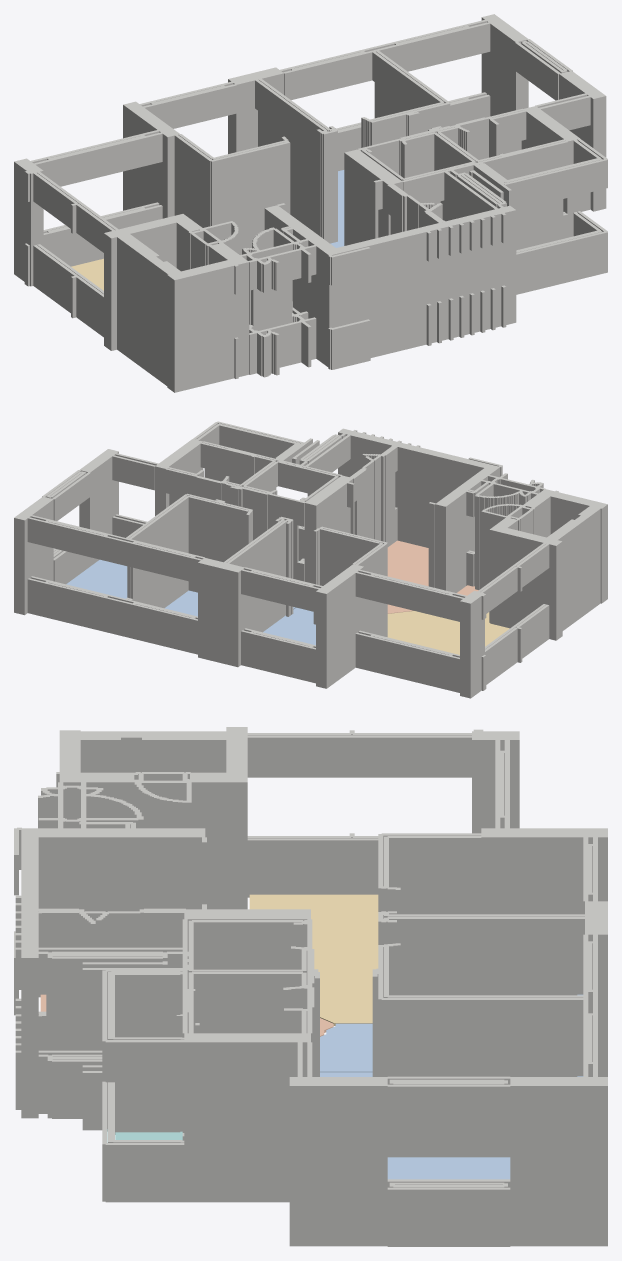
The picture shows the model from 3 angles, top to bottom: view 1: azimuth 30°, elevation 25°; view 2: azimuth 150°, elevation 25°; view 3: azimuth 270°, elevation 25°; orthographic projection. The views are drawn at different scales.
Parts seen in each view (by area): view 1: walls, room:bedroom:2, room:living:4; view 2: walls, room:living:4, room:kitchen:8, room:bedroom:1, room:bedroom:0, room:bedroom:2; view 3: walls, room:living:4, room:bedroom:1, room:bedroom:0.
Boxes of the visible parts, x1,y1,x2,y2 form: walls: (14, 14, 607, 392); room:bedroom:2: (330, 170, 344, 247); room:living:4: (71, 258, 103, 290); walls: (14, 421, 607, 698); room:living:4: (387, 611, 509, 654); room:kitchen:8: (387, 540, 478, 613); room:bedroom:1: (66, 559, 127, 598); room:bedroom:0: (263, 607, 315, 645); room:bedroom:2: (165, 590, 295, 616); walls: (14, 727, 607, 1246); room:living:4: (249, 894, 378, 1025); room:bedroom:1: (387, 1157, 510, 1179); room:bedroom:0: (320, 994, 582, 1072).
Bounding box in the file's own units: 13.48 × 2.8 × 9.41.
